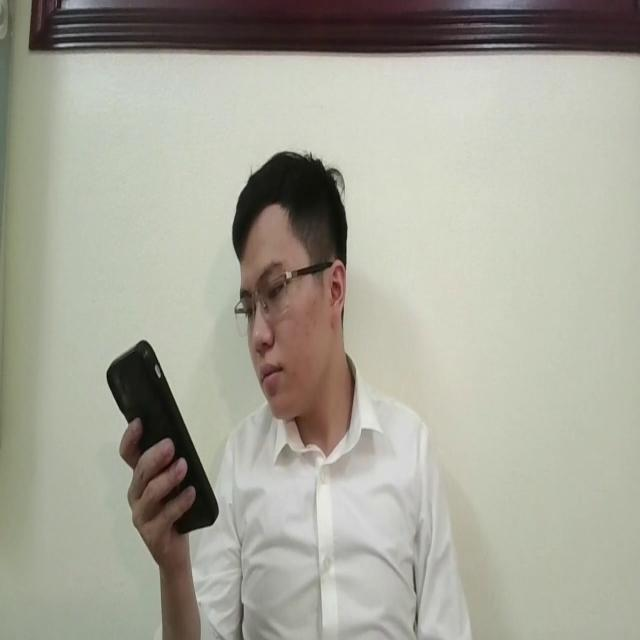phone: (108, 336, 222, 542)
student: (118, 139, 476, 640)
